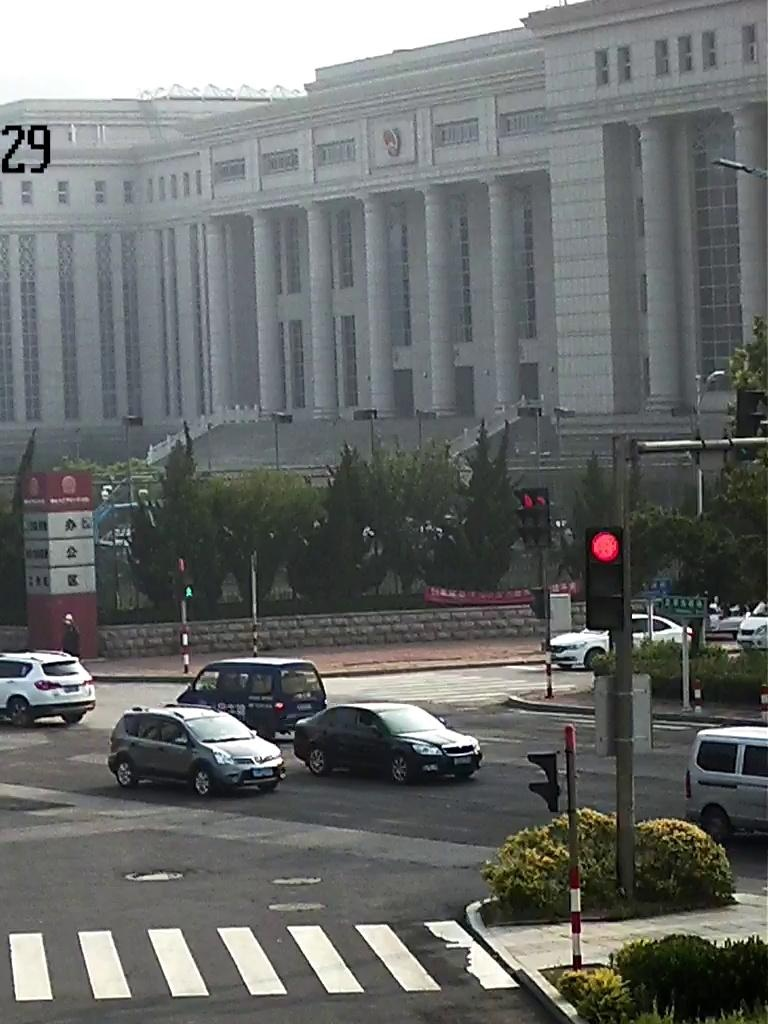greenpeople: (183, 583, 196, 600)
red: (583, 533, 625, 563), (517, 485, 535, 509)
